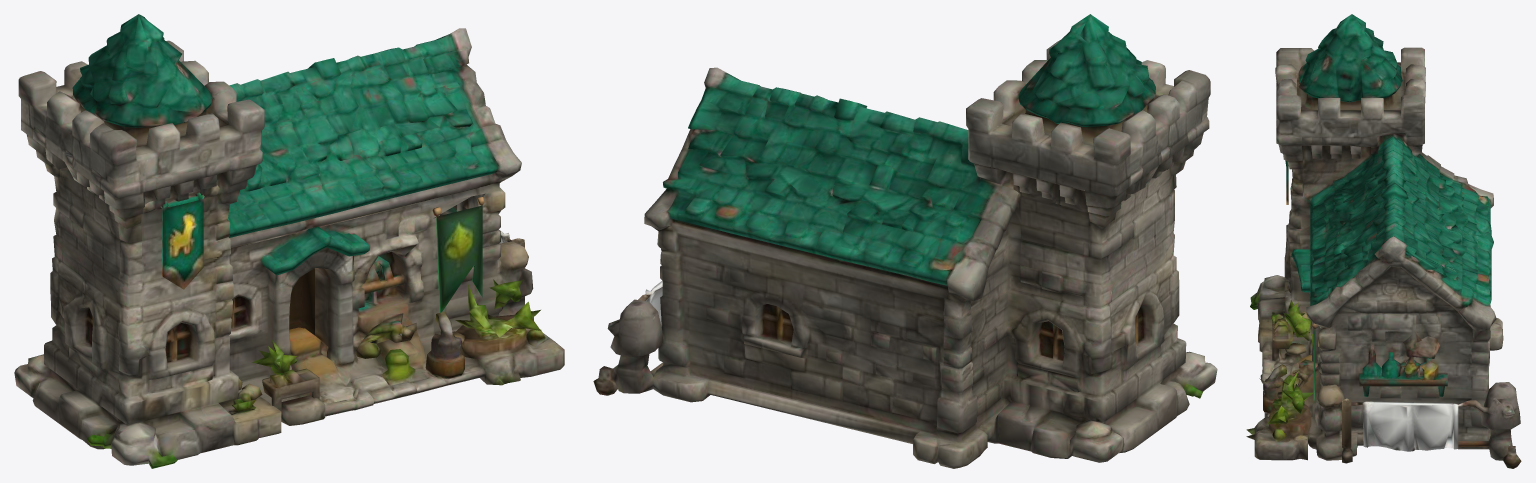
File: enfermeria_tripo.glb
3 views of the same model, side by side, from view 1: azimuth 30°, elevation 25°; view 2: azimuth 150°, elevation 25°; view 3: azimuth 270°, elevation 25° (orthographic). The views are drawn at different scales.
Parts seen in each view (by area): view 1: tripo_node_3b9f7a6e-03ec-4c20-a02a-bdaaa62c5a9e; view 2: tripo_node_3b9f7a6e-03ec-4c20-a02a-bdaaa62c5a9e; view 3: tripo_node_3b9f7a6e-03ec-4c20-a02a-bdaaa62c5a9e.
Boxes of the visible parts, x1,y1,x2,y2 form: tripo_node_3b9f7a6e-03ec-4c20-a02a-bdaaa62c5a9e: [14, 14, 564, 468]; tripo_node_3b9f7a6e-03ec-4c20-a02a-bdaaa62c5a9e: [593, 14, 1217, 468]; tripo_node_3b9f7a6e-03ec-4c20-a02a-bdaaa62c5a9e: [1246, 14, 1521, 468].
Bounding box in the file's own units: 0.9793 × 0.7838 × 0.6344.
1 material, 1 textured.
